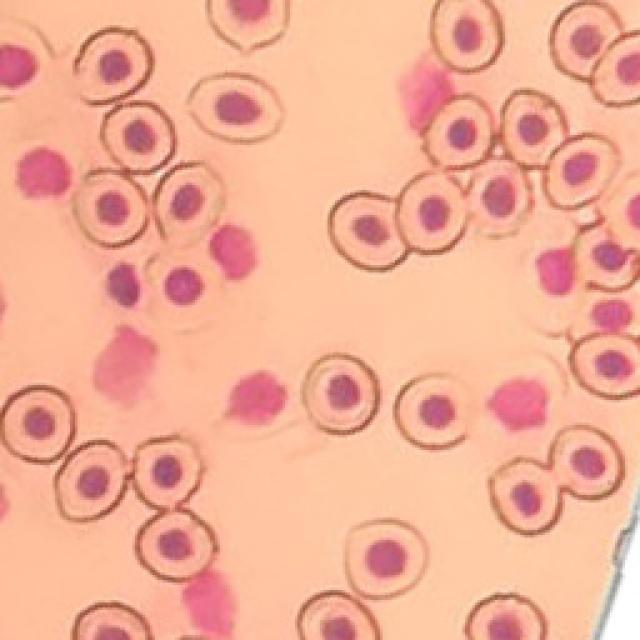RBC: (189, 72, 282, 141), (346, 520, 428, 598), (145, 249, 222, 331), (329, 192, 408, 270), (74, 28, 154, 104), (304, 354, 379, 433), (0, 385, 76, 462), (154, 162, 224, 245), (56, 441, 128, 521), (74, 170, 148, 247), (136, 510, 218, 579), (398, 172, 468, 252), (394, 374, 468, 449), (550, 0, 620, 79), (545, 134, 619, 208), (101, 101, 176, 173), (551, 425, 624, 498), (491, 459, 561, 534), (501, 90, 568, 168), (522, 246, 579, 336), (424, 95, 494, 168), (431, 0, 502, 71), (132, 438, 201, 509), (469, 159, 531, 236), (570, 334, 640, 399), (574, 224, 640, 290), (206, 0, 290, 51), (570, 280, 640, 339), (0, 20, 51, 99), (298, 591, 380, 640), (465, 594, 548, 640), (590, 31, 640, 105), (72, 602, 152, 640), (604, 172, 640, 251)
WBC: (94, 326, 158, 405), (182, 570, 232, 640), (228, 371, 286, 424), (489, 379, 548, 430), (18, 148, 71, 197), (210, 225, 255, 278), (108, 264, 140, 307)
